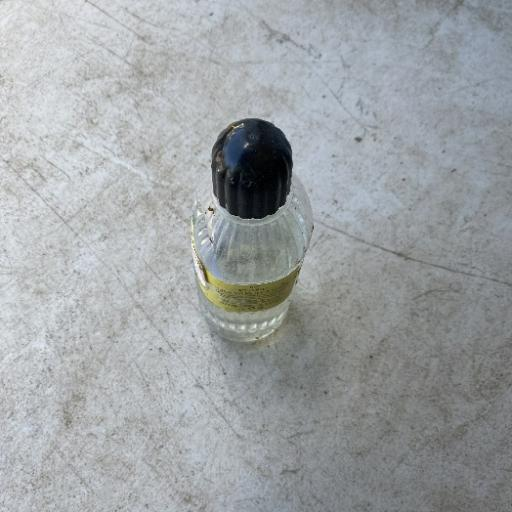Plastic: (186, 115, 316, 345)
